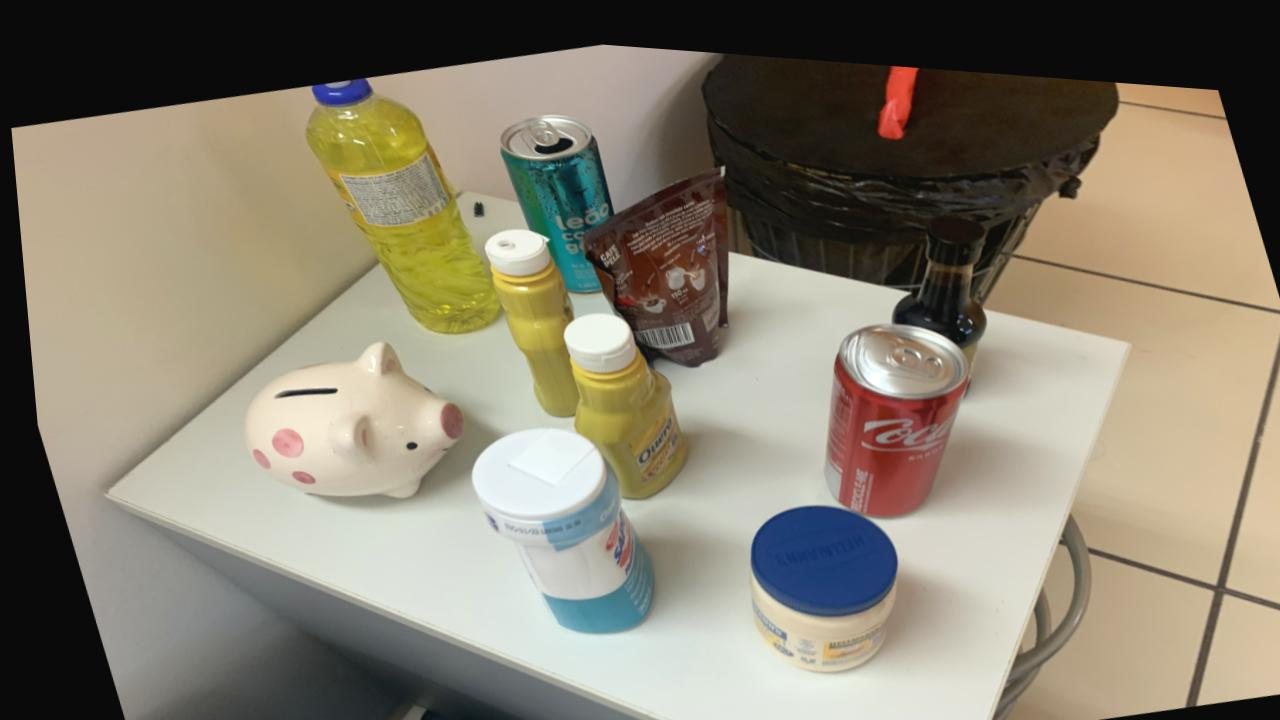Cleaner-Cleanup_Items: (463, 420, 644, 625)
Coffee-Pantry_Items: (579, 157, 725, 357)
Coke-Drinks: (816, 310, 964, 504)
Detergent-Cleanup_Items: (303, 73, 495, 327)
English_Sauce-Pantry_Items: (887, 200, 983, 335)
Mayonnaise-Pantry_Items: (739, 493, 889, 660)
Mustard-Pantry_Items: (557, 304, 680, 490), (480, 221, 573, 409)
Pig_Safe-Miscellaneous: (235, 336, 457, 493)
Tea-Drinks: (498, 106, 611, 284)
